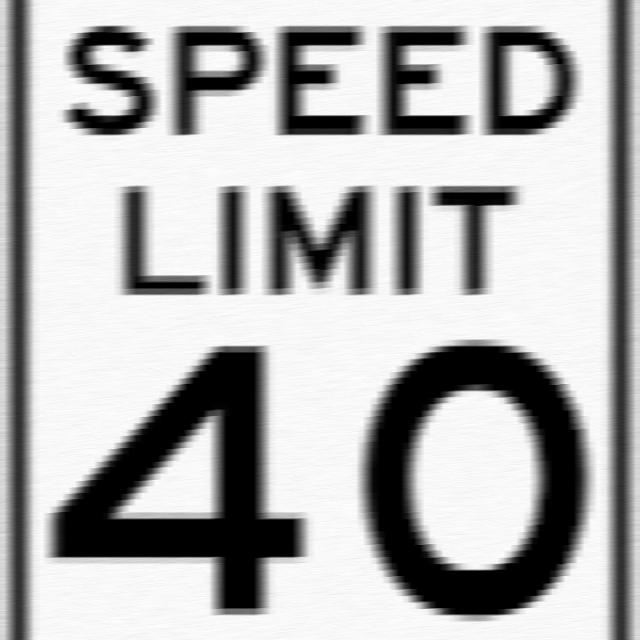speedLimit40: (17, 6, 629, 634)
